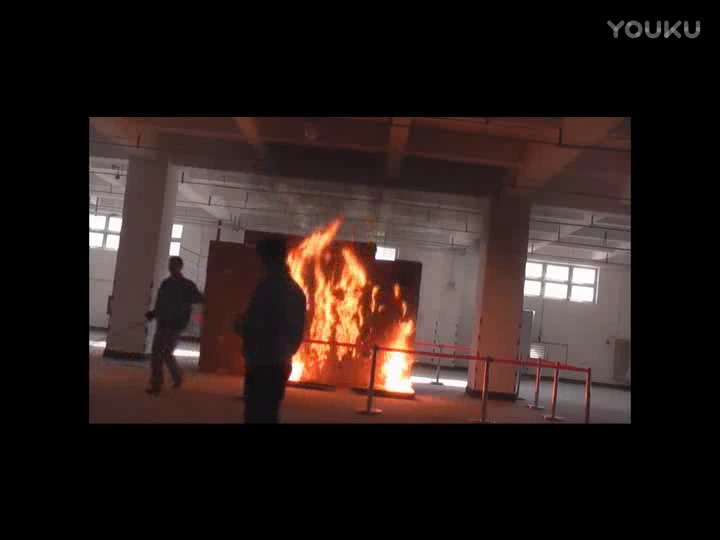fire: (281, 211, 420, 393)
